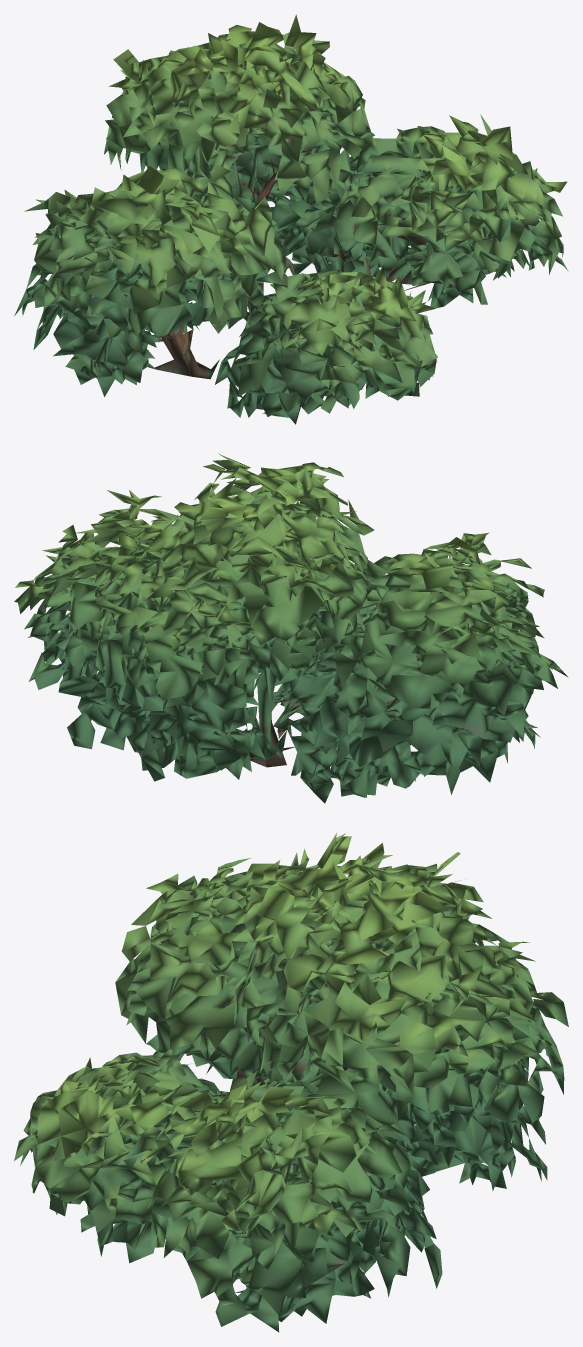
Rendered from vegetation_bush_a_model.glb.
The picture shows the model from 3 angles, top to bottom: view 1: azimuth 30°, elevation 25°; view 2: azimuth 150°, elevation 25°; view 3: azimuth 270°, elevation 25°; orthographic projection. The views are drawn at different scales.
Parts seen in each view (by area): view 1: Mesh_0.001; view 2: Mesh_0.001; view 3: Mesh_0.001.
Boxes of the visible parts, x1,y1,x2,y2 form: Mesh_0.001: [14, 14, 568, 424]; Mesh_0.001: [14, 453, 568, 803]; Mesh_0.001: [14, 833, 568, 1332].
Bounding box in the file's own units: 1.73 × 1 × 1.33.
Materials: 1 (1 with a texture image).
